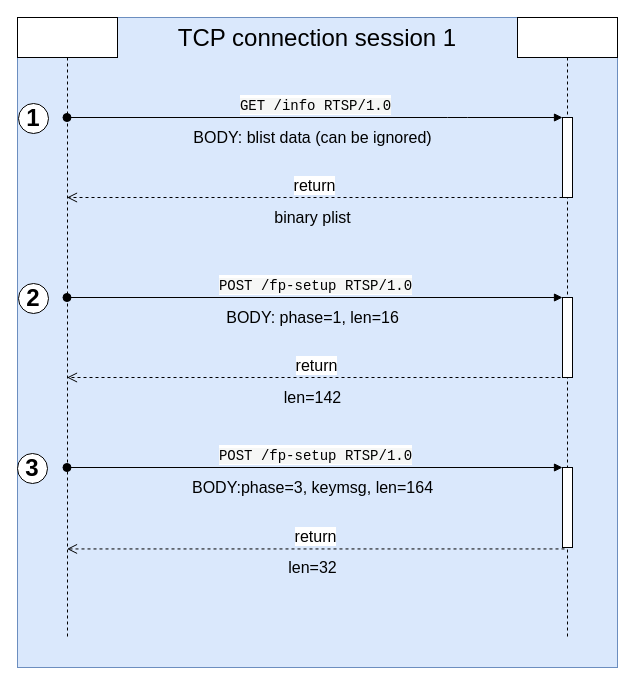
Image size: 635x685. Some labels were removed from this diagram. The box of each missing label's shape, as (x1, y1, x2, y2) in pixels:
Receiver: (516, 16, 618, 638)
Sender: (16, 16, 118, 638)
